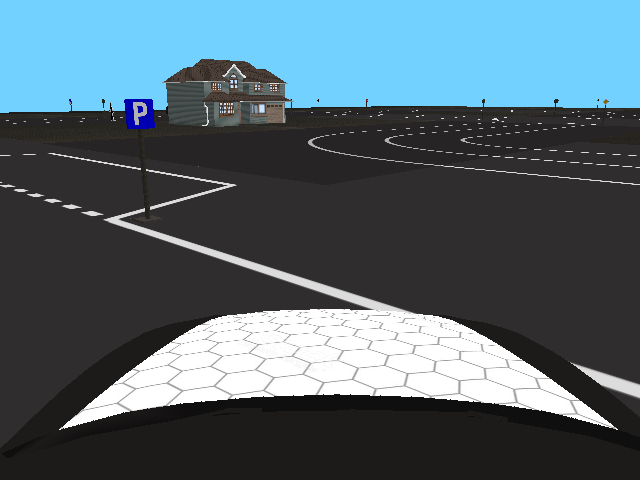parking: (124, 98, 155, 129)
